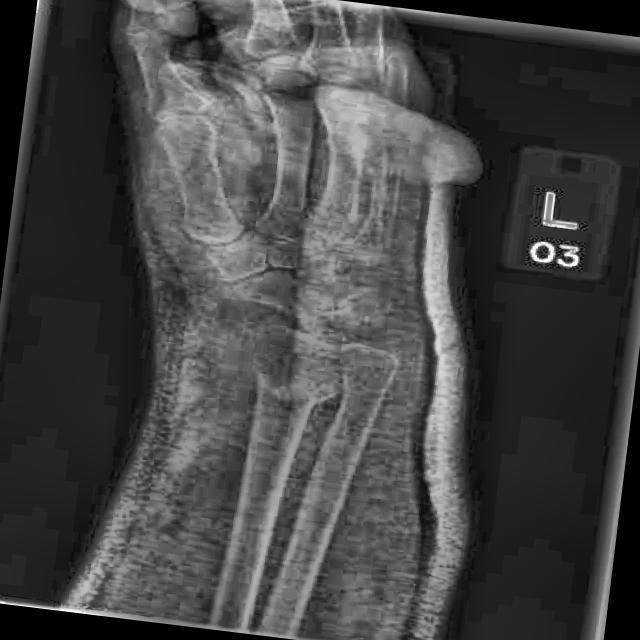fingers positive: (227, 327, 378, 430)
